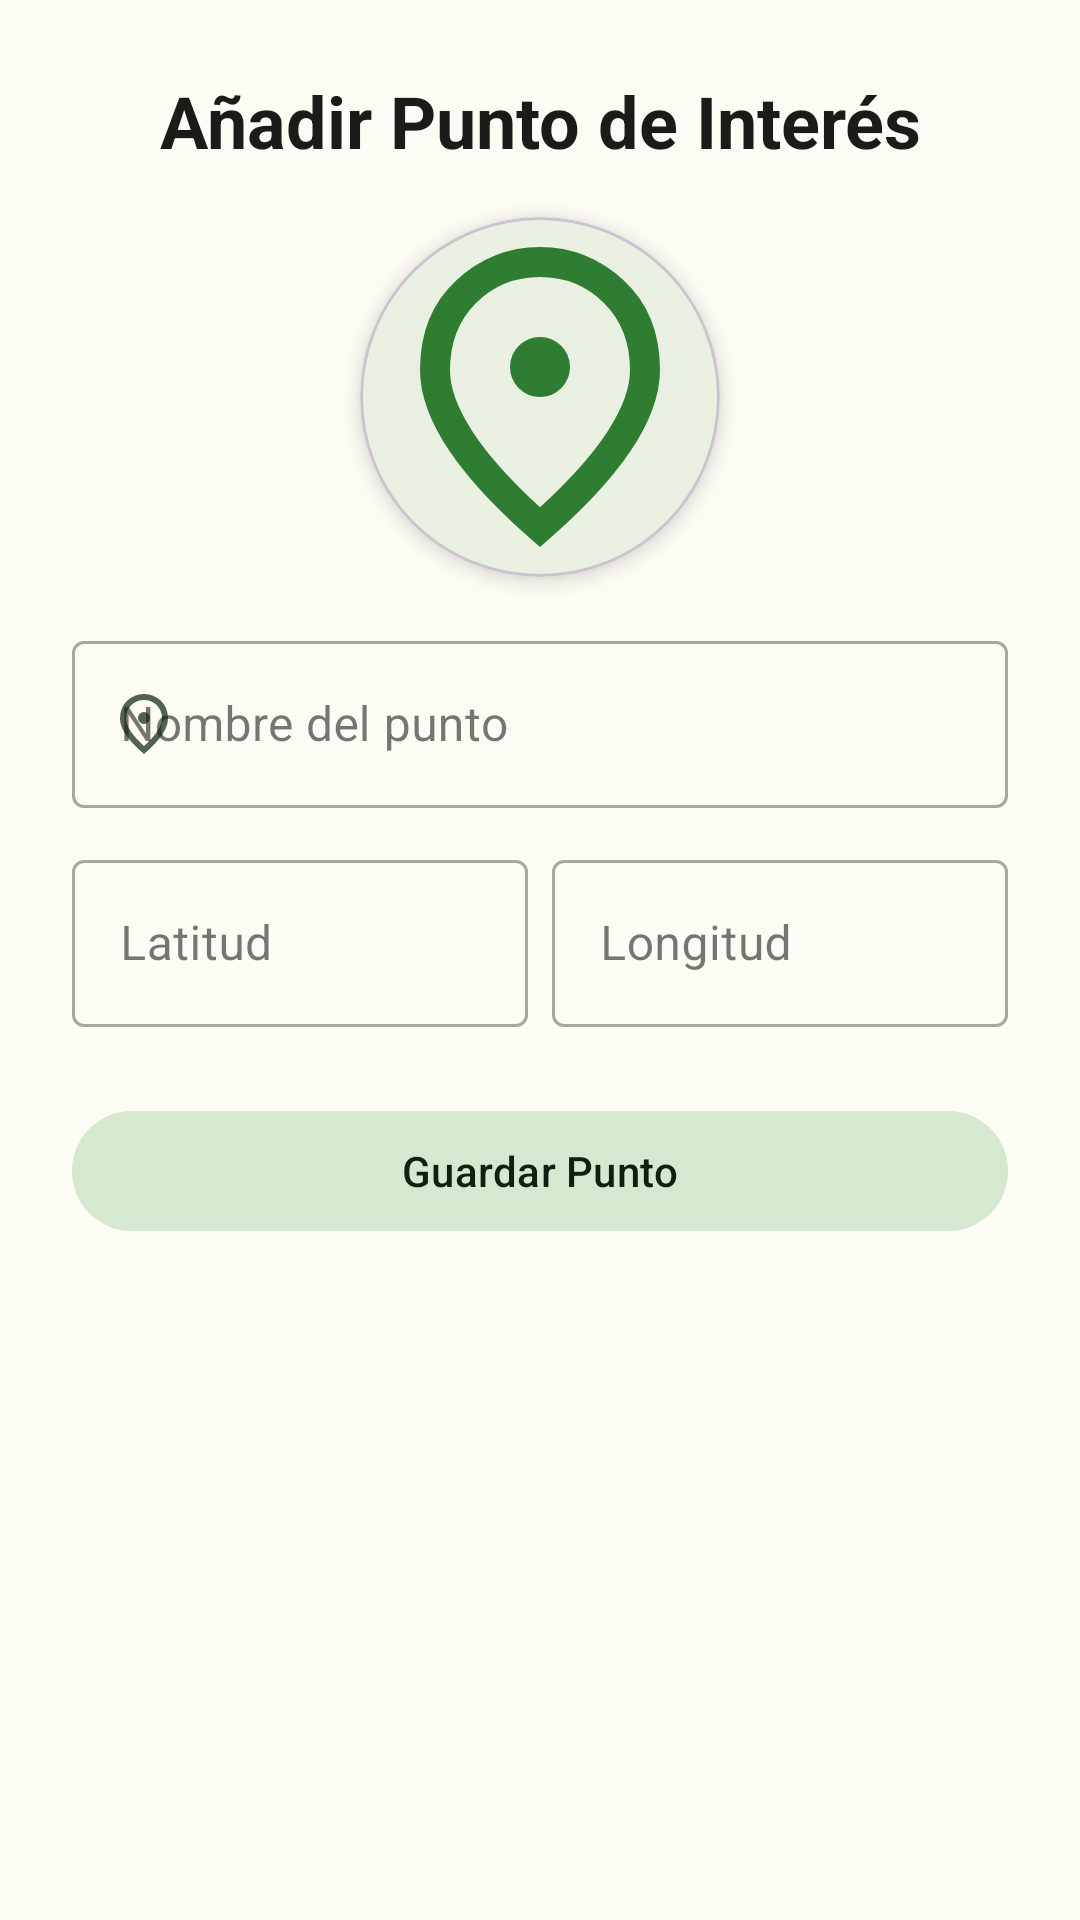

Icons on this 1080x1920 Android screen, each with its box as rect(x1, y1, x2, y2):
location: rect(360, 217, 720, 577)
